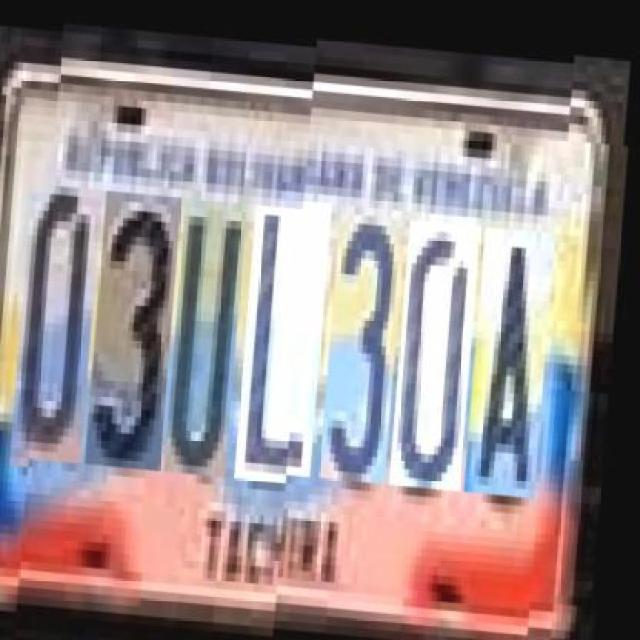0: (19, 174, 106, 452), (396, 210, 484, 482)
3: (93, 179, 185, 459), (327, 207, 408, 476)
a: (472, 218, 559, 487)
l: (243, 192, 335, 470)
u: (172, 185, 251, 464)
